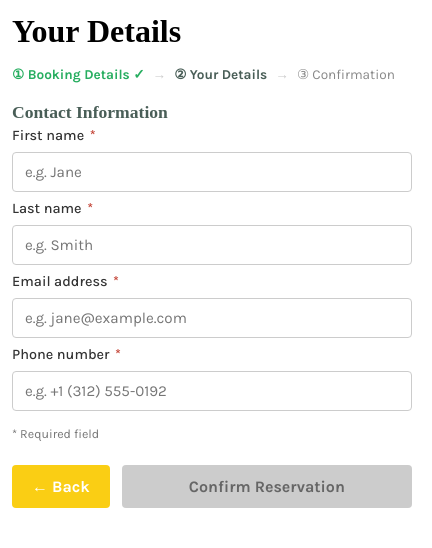
shows error for invalid email
In the field labelled "Email address": (212, 318) left=12, top=298, right=412, bottom=338, type "notanemail"
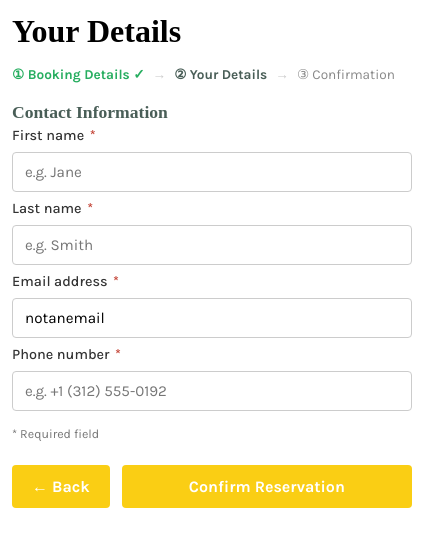
Leave the field labelled "Email address", box left=12, top=298, right=412, bottom=338
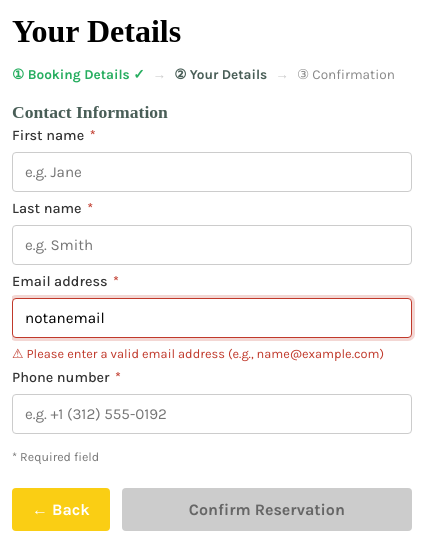
Check: the message shows "valid email address", box left=26, top=346, right=384, bottom=361
